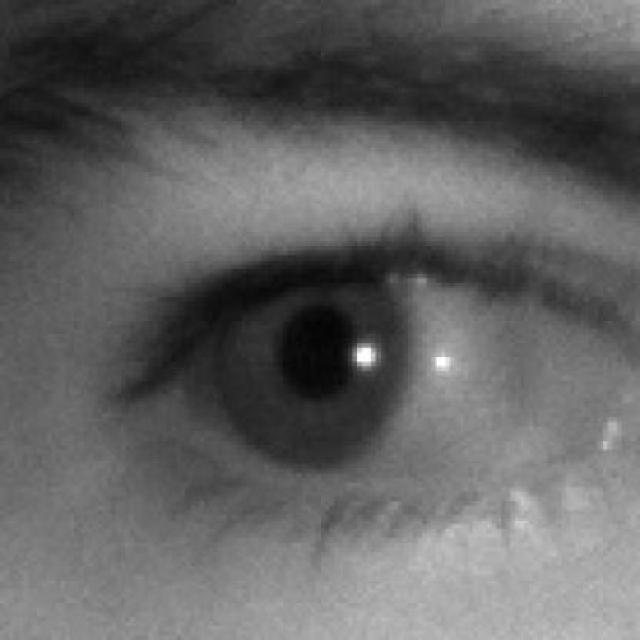awake: (112, 232, 636, 533)
